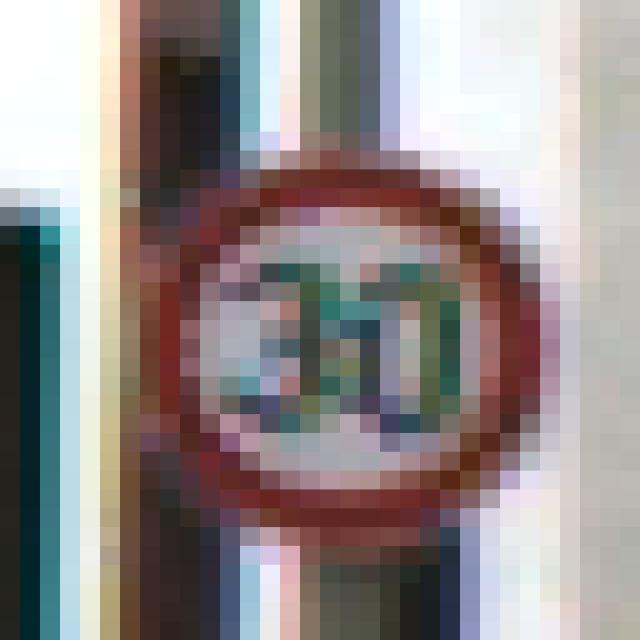Speed Limit -30-: (90, 104, 530, 518)
